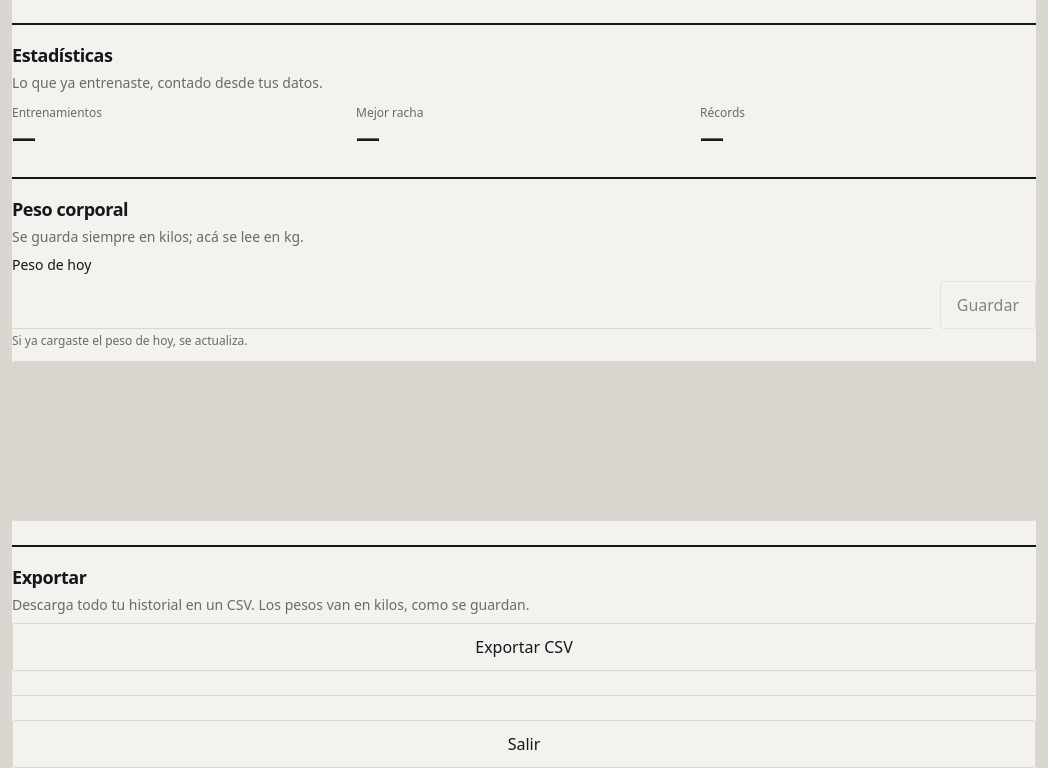
it: the CSV export › disables the control and announces the work while the export runs
The image size is (1048, 768).
(page scrolled)
Click the button "Exportar CSV" at (524, 647), box [12, 623, 1036, 671]
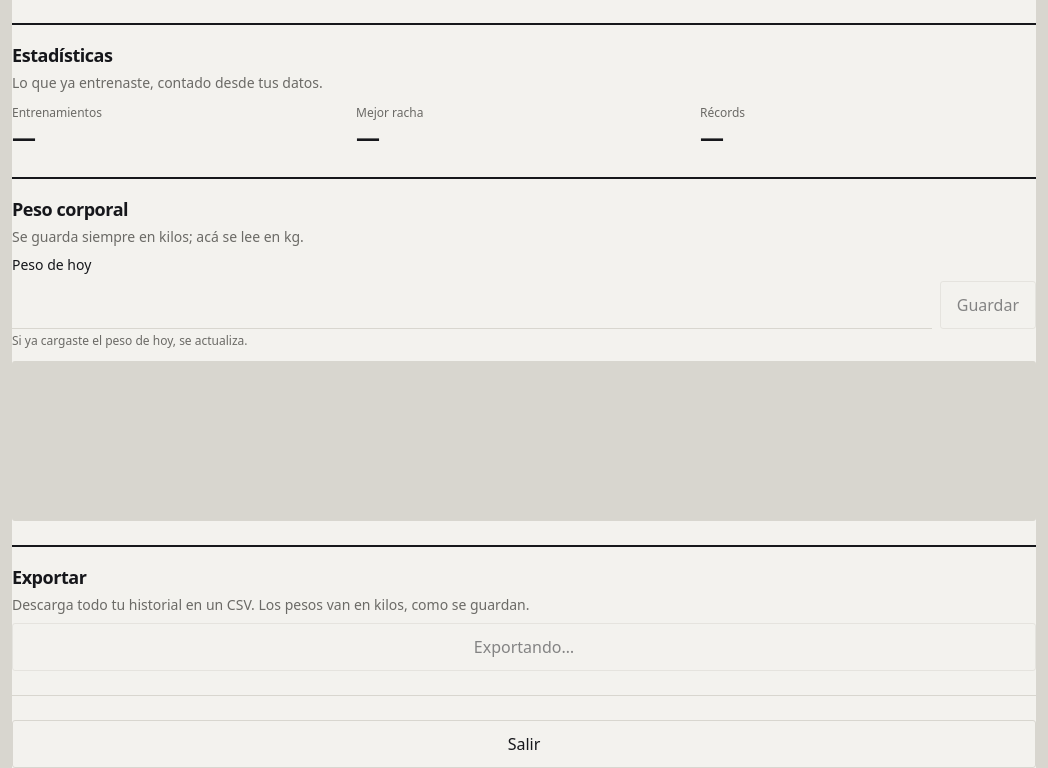
Expected: the button "Exportando…" is disabled, [12, 623, 1036, 671]
